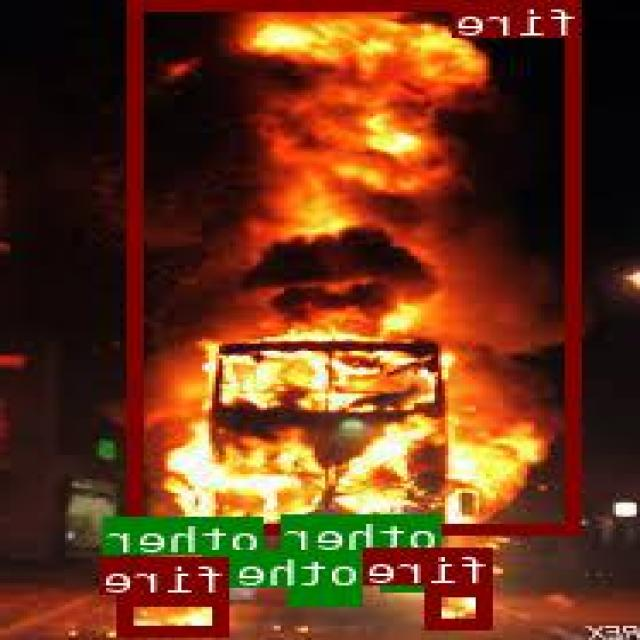fire: (130, 0, 582, 533), (121, 594, 230, 634), (428, 585, 494, 626)
other: (385, 550, 444, 590), (292, 586, 365, 603), (220, 555, 264, 582)
